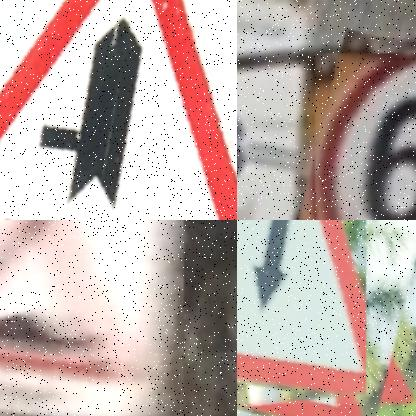Speed Limit -60 kmph-: (309, 56, 416, 220), (316, 53, 416, 220)
U-Turn: (237, 220, 364, 404)
